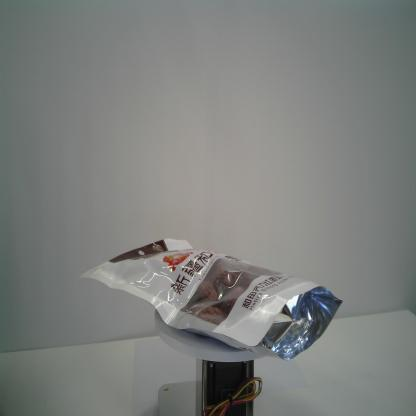Dried Food: (78, 236, 348, 366)
